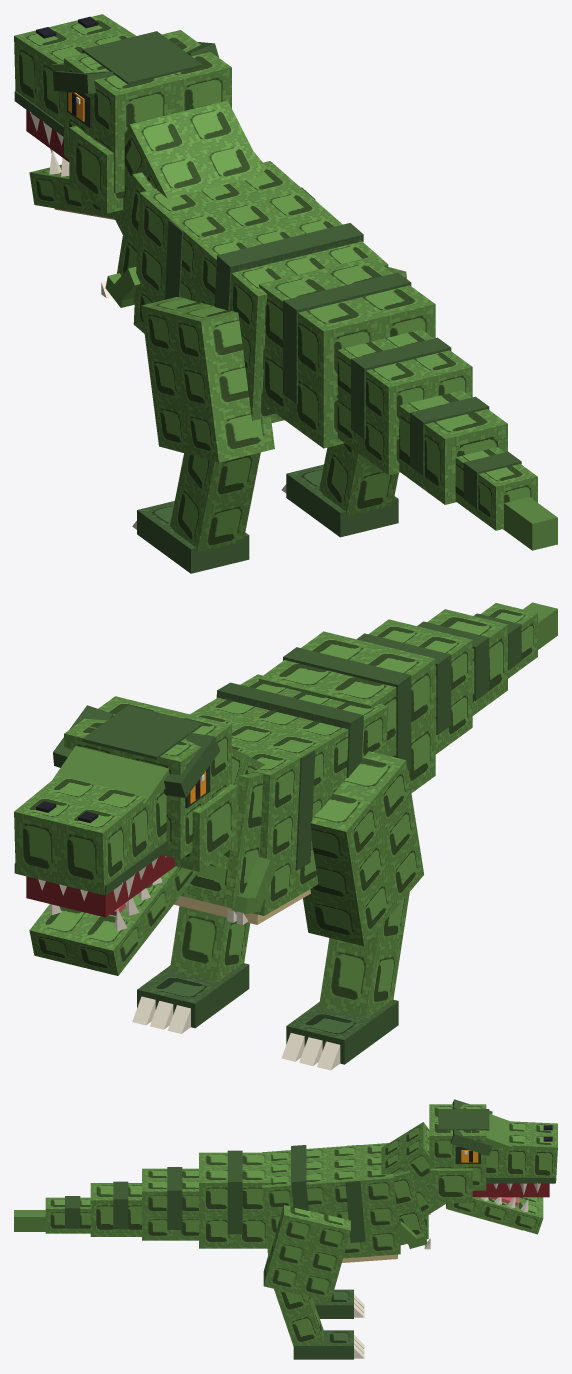
File: TRex.glb
3 renders of one model, top to bottom at view 1: azimuth 30°, elevation 25°; view 2: azimuth 150°, elevation 25°; view 3: azimuth 270°, elevation 25°, orthographic. The views are drawn at different scales.
Parts seen in each view (by area): view 1: TRex; view 2: TRex; view 3: TRex.
Part boxes in pixels (<box>): TRex: <box>14,14,557,573</box>; TRex: <box>14,602,557,1070</box>; TRex: <box>14,1099,557,1359</box>.
Size of the model in its own units: 4.45 by 7.87 by 18.08.
1 material, 1 textured.
